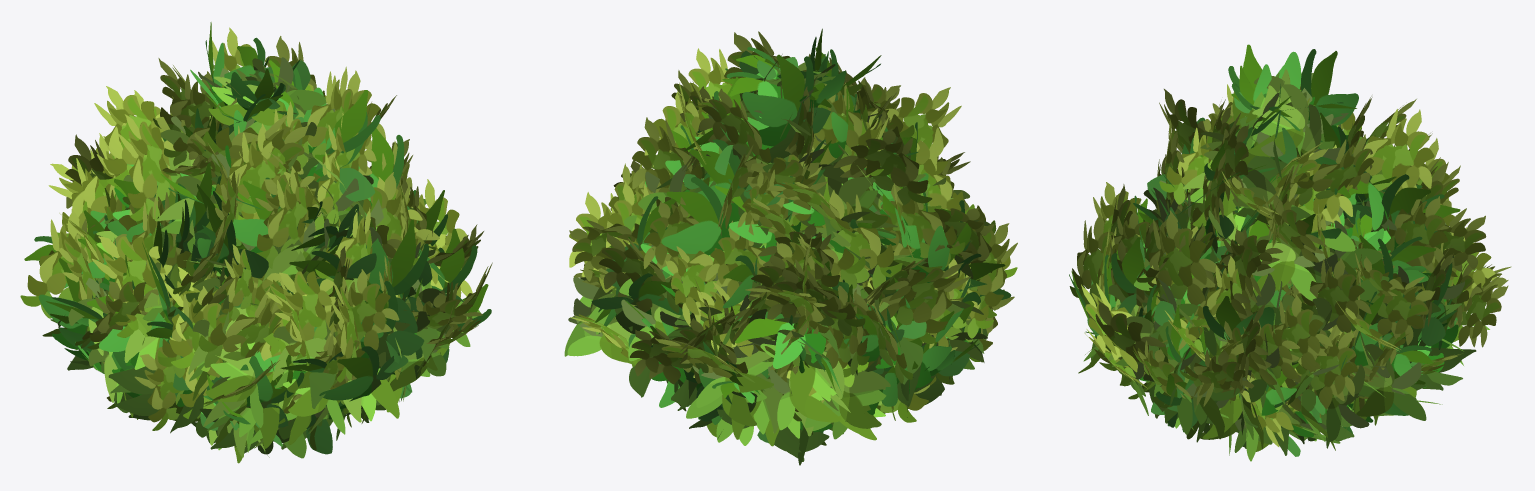
Rendered from bush3.fbx.
3 renders of one model, left to right at view 1: azimuth 30°, elevation 25°; view 2: azimuth 150°, elevation 25°; view 3: azimuth 270°, elevation 25°, orthographic. The views are drawn at different scales.
Visible parts, largest first — view 1: transp.002; view 2: transp.002; view 3: transp.002.
Boxes of the visible parts, x1=… form: transp.002: x1=20, y1=22, x2=492, y2=463; transp.002: x1=564, y1=28, x2=1017, y2=465; transp.002: x1=1069, y1=44, x2=1511, y2=461.
Size of the model in its own units: 290 by 300 by 293.
